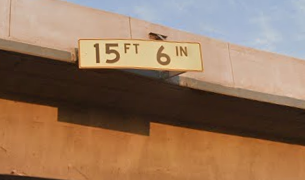1: (90, 41, 102, 65)
5: (104, 41, 122, 65)
6: (152, 42, 173, 67)
overheadsign: (74, 37, 205, 73)
